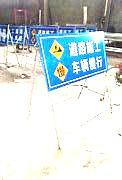sign: (43, 34, 107, 89)
